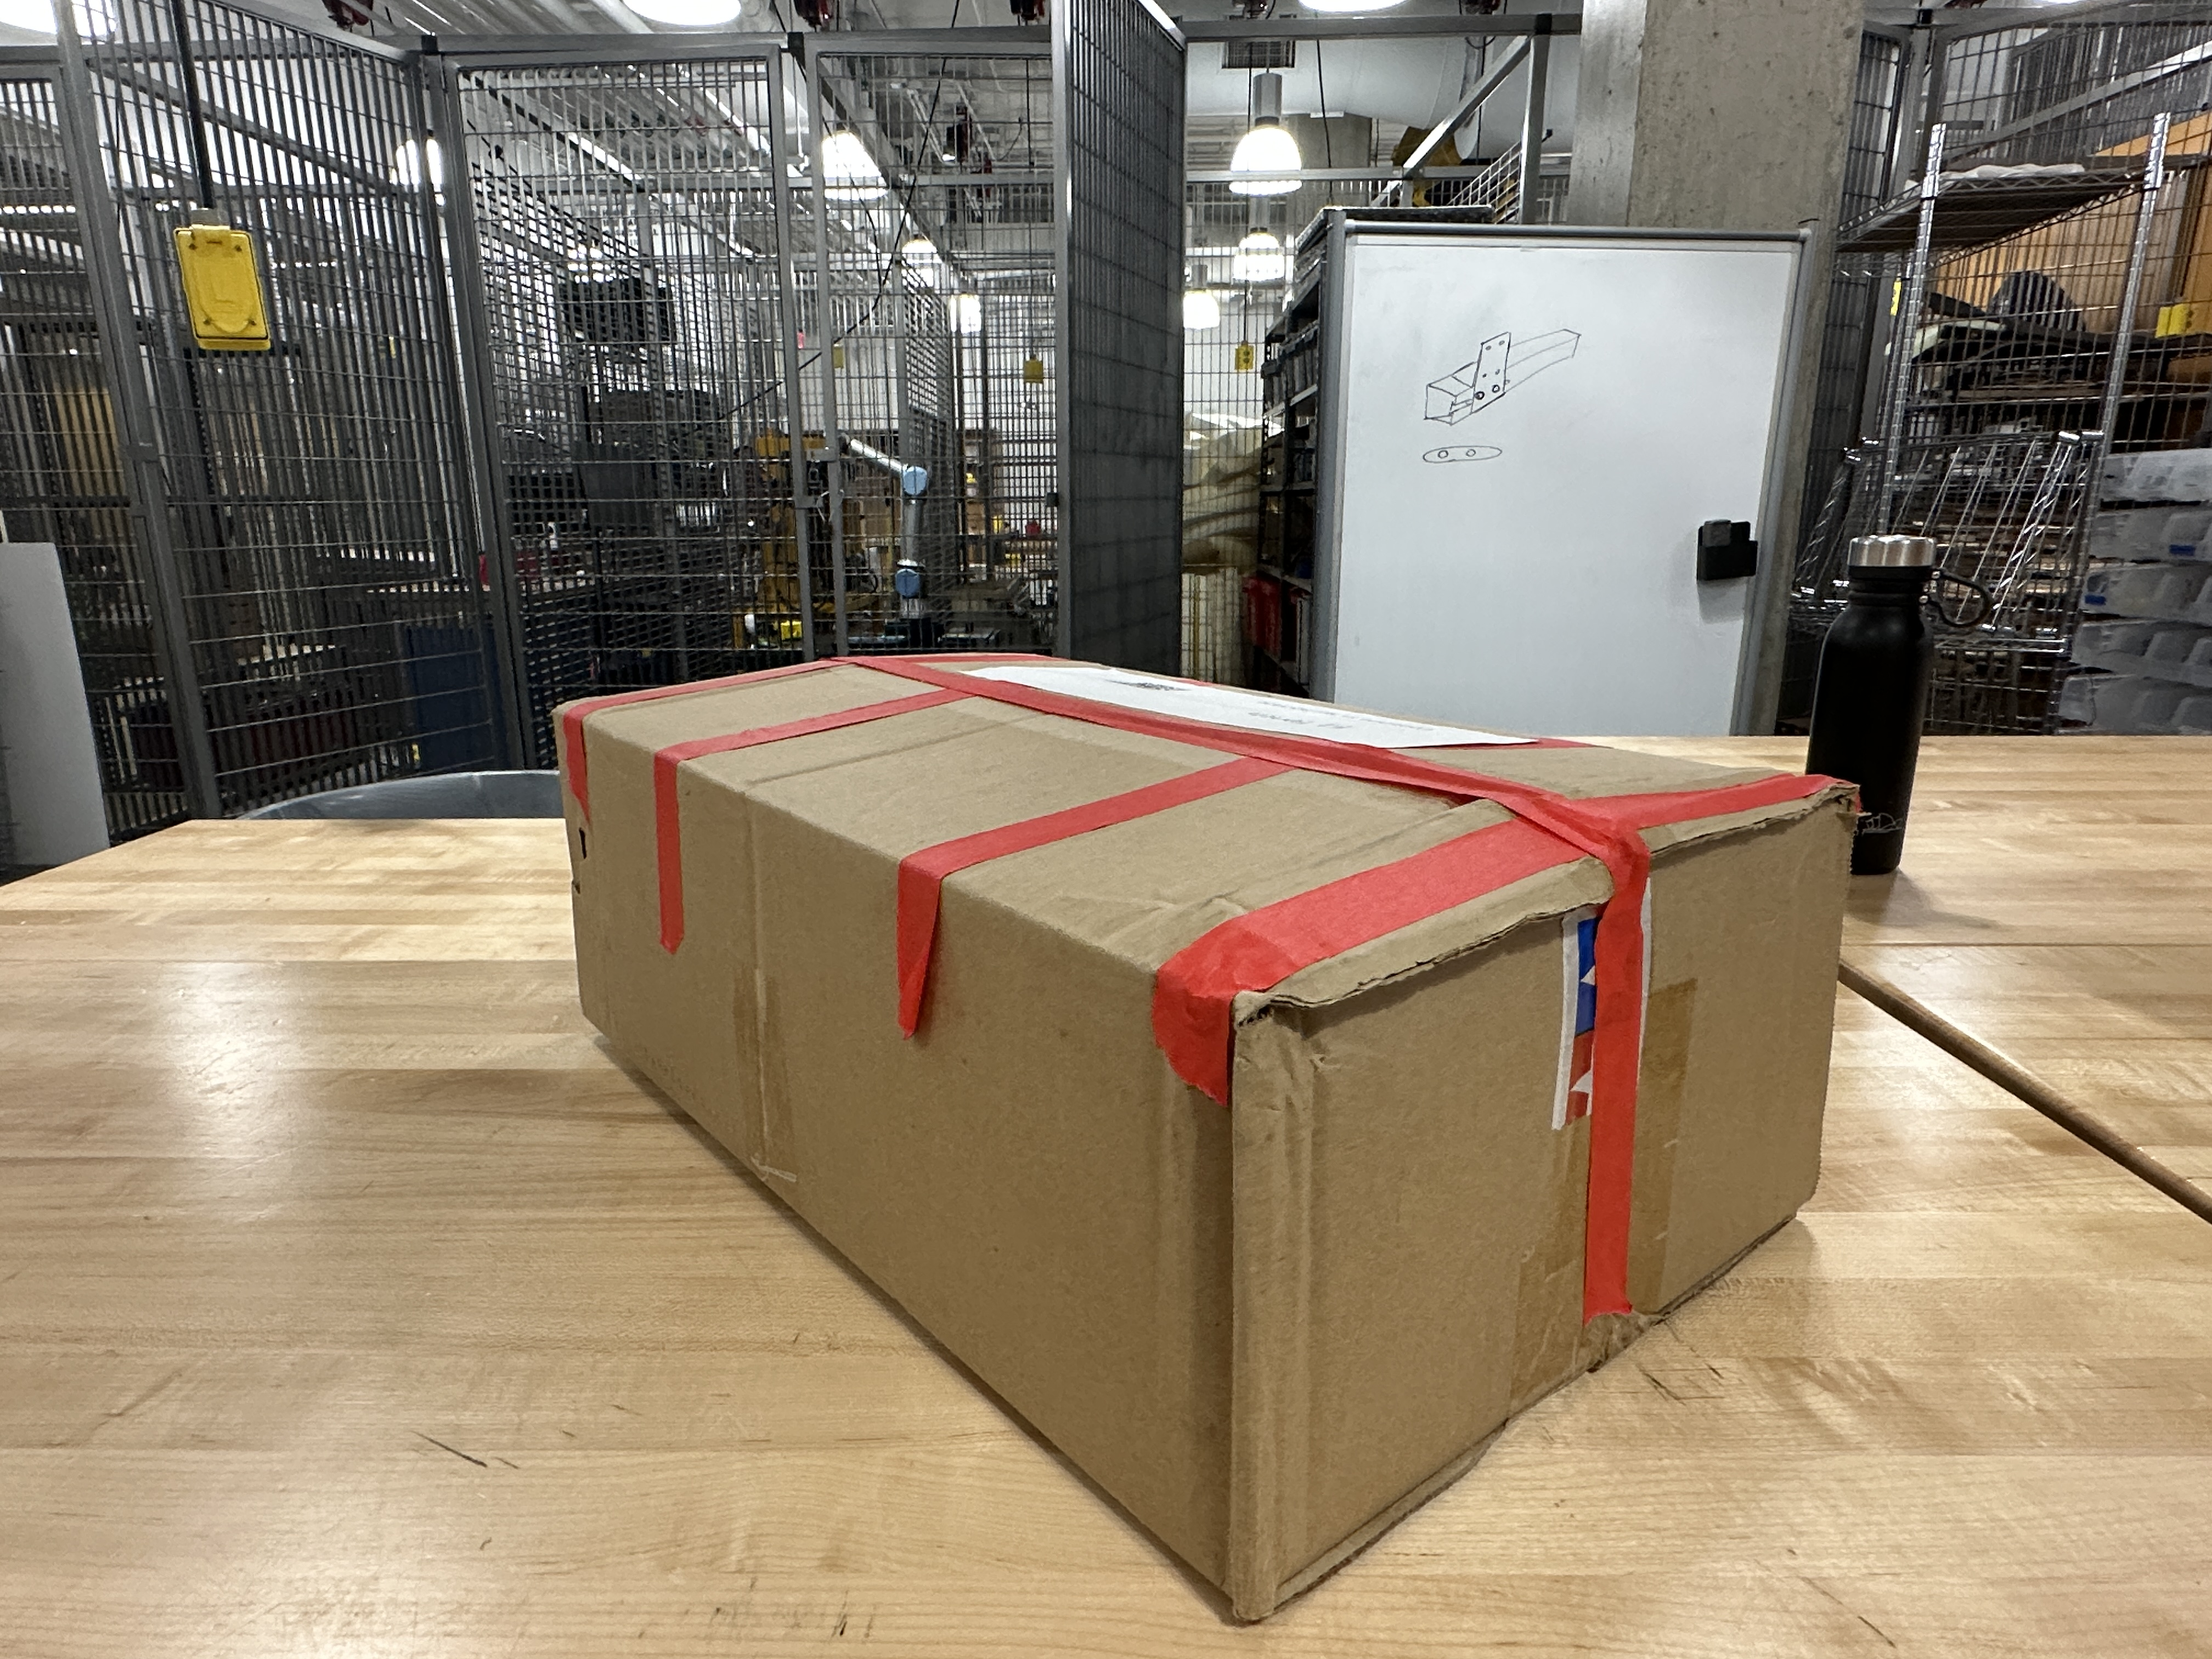Box_Obstacle: (531, 632, 1868, 1635)
